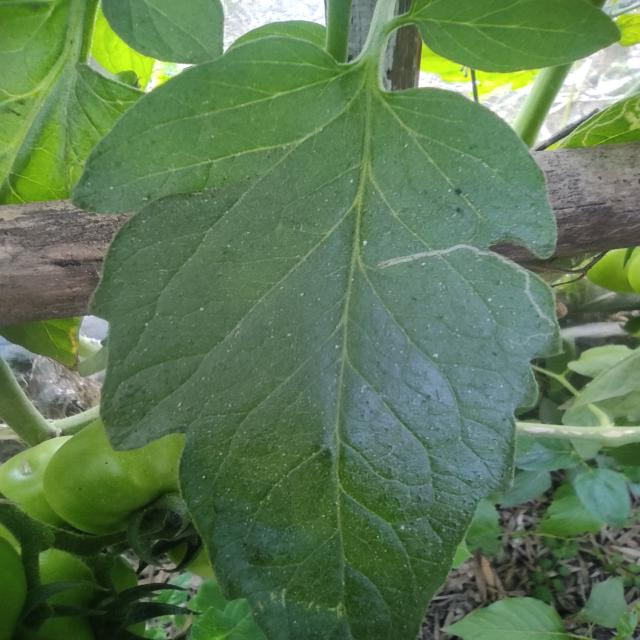Tuta absoluta: (377, 219, 572, 325)
